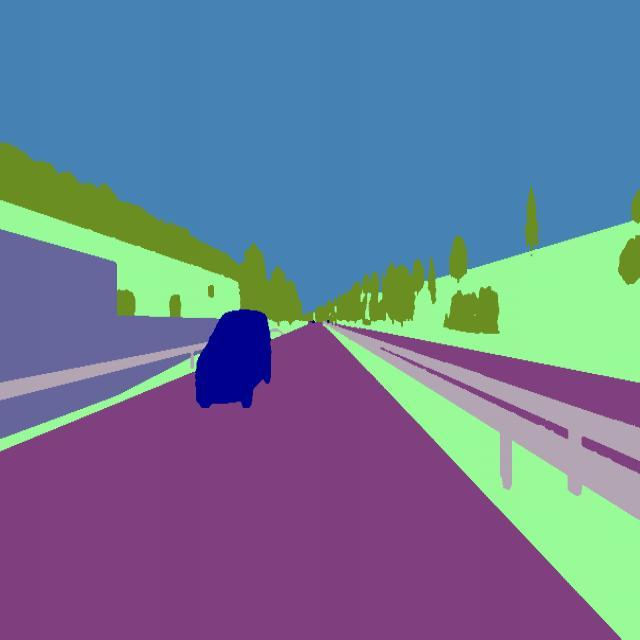safe: (194, 304, 274, 416)
